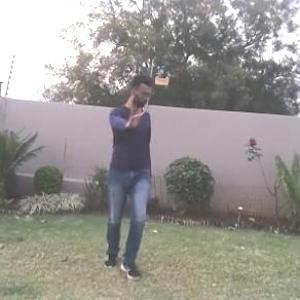takeoff-hand: (122, 99, 149, 132)
